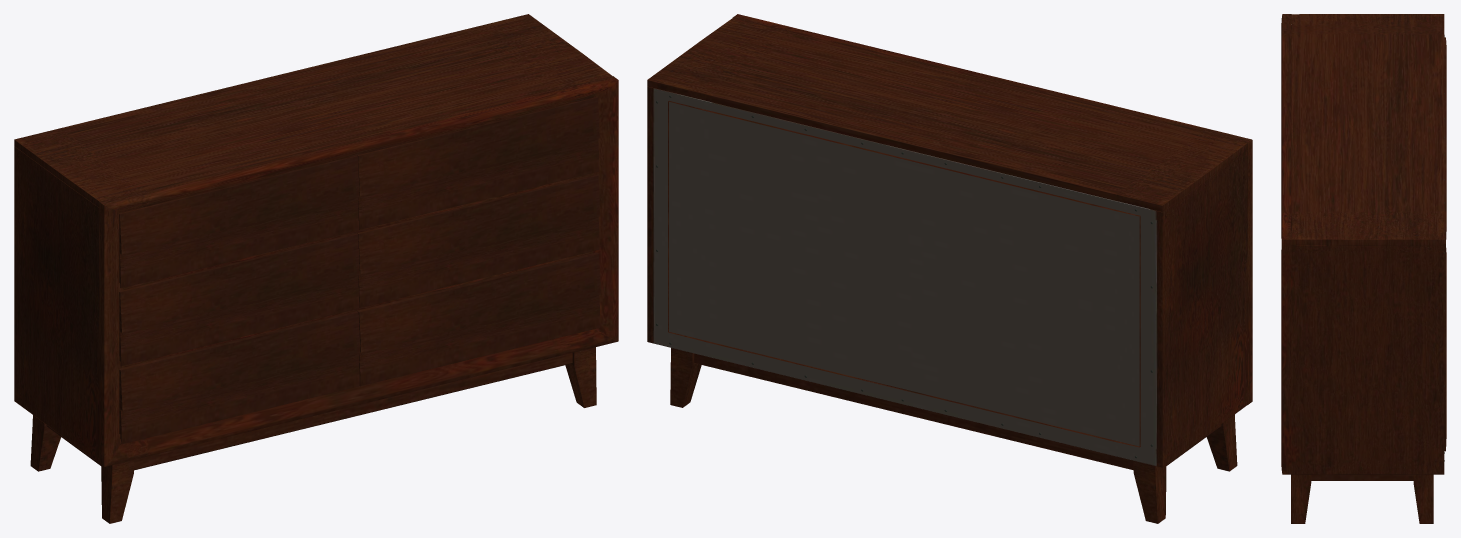
File: ventura_louvered_dresser.glb
3 views of the same model, side by side, from view 1: azimuth 30°, elevation 25°; view 2: azimuth 150°, elevation 25°; view 3: azimuth 270°, elevation 25° (orthographic). The views are drawn at different scales.
Visible parts, largest first — view 1: RootNode; view 2: RootNode; view 3: RootNode.
Part boxes in pixels (x1,y1,x2,y2): RootNode: (14,14,618,523); RootNode: (647,14,1252,523); RootNode: (1281,14,1446,523).
Size of the model in its own units: 1.61 by 0.9709 by 0.499.
Materials: 1 (1 with a texture image).
